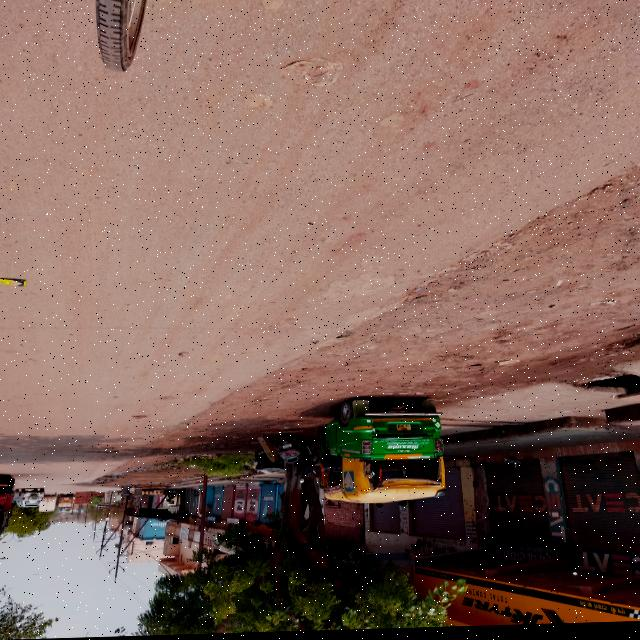plate: (394, 425, 412, 433)
